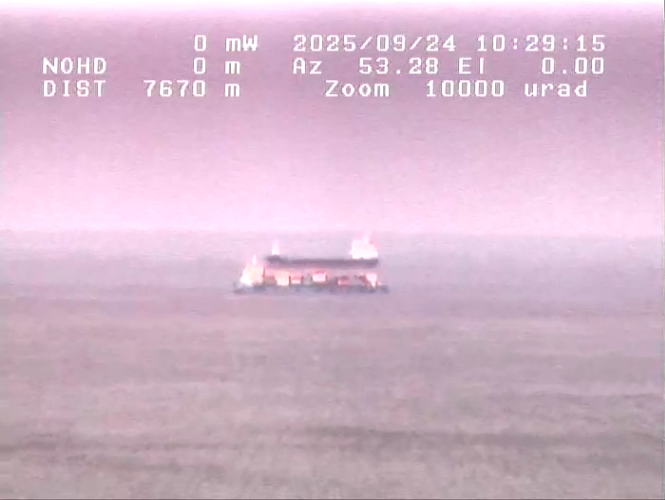CARGO_SHIPS: (224, 252, 394, 309)
TANKER: (262, 233, 417, 268)
